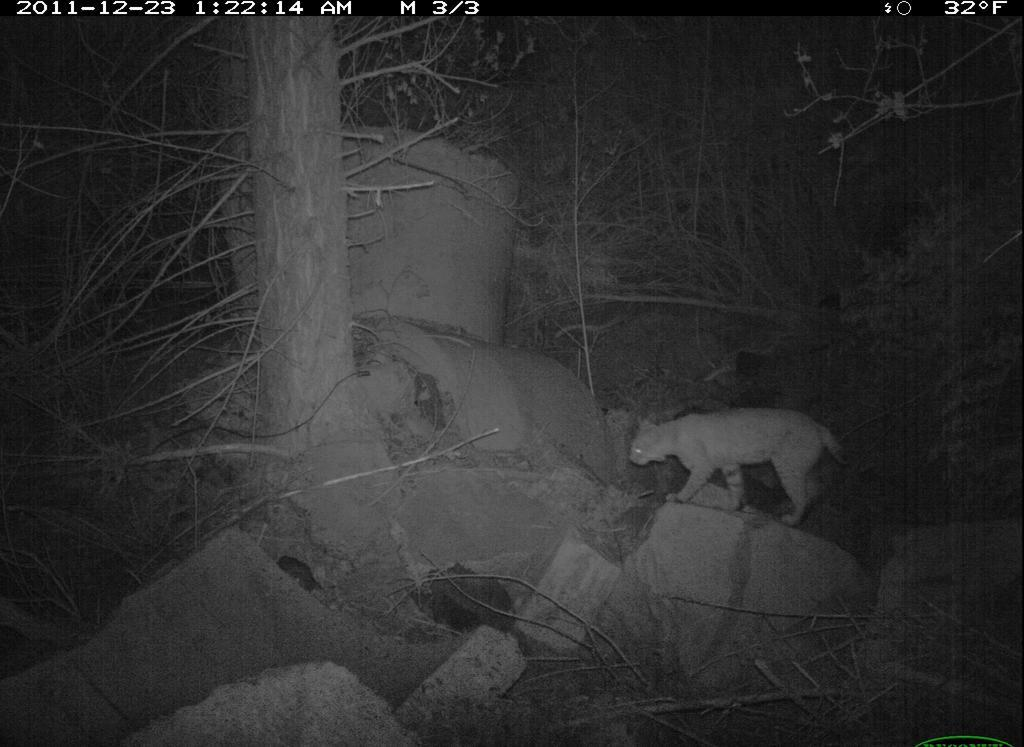bobcat: (616, 392, 852, 542)
